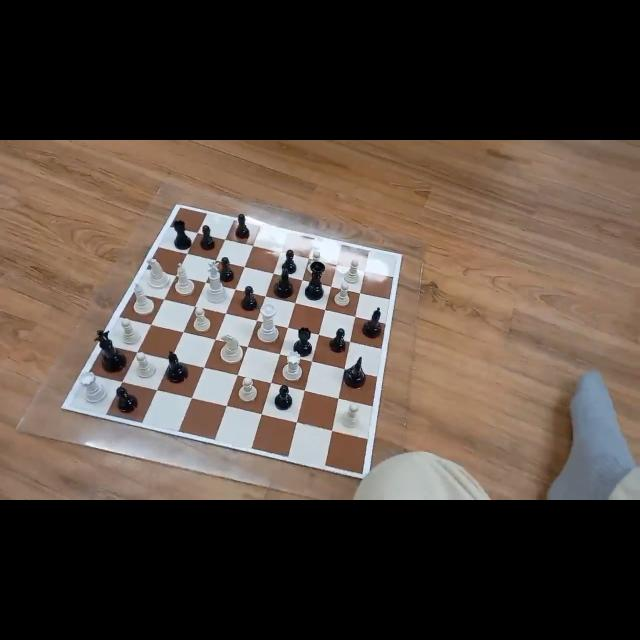chessboard-corner: (58, 404, 66, 412), (366, 476, 372, 484), (174, 202, 180, 208), (400, 253, 404, 259)
